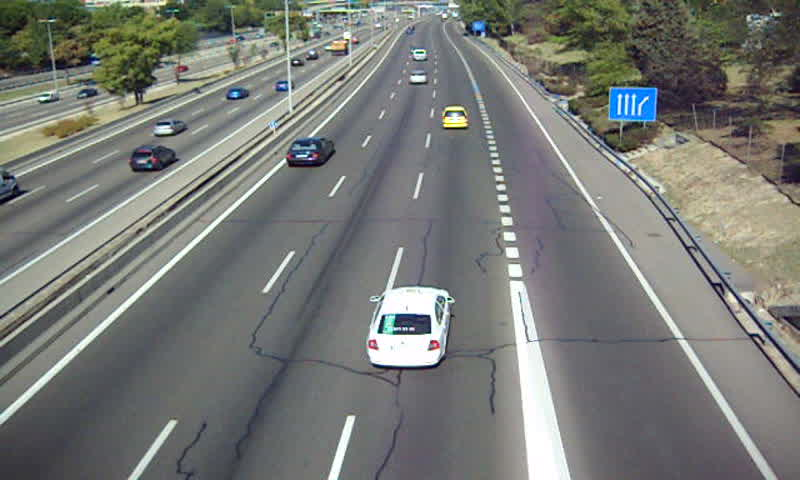car: (367, 286, 451, 365), (286, 139, 332, 164), (442, 106, 469, 131), (409, 69, 428, 84)
